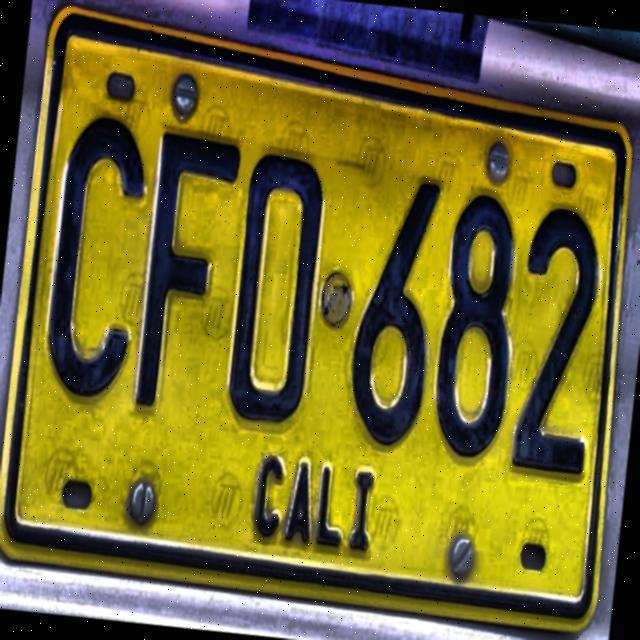2: (505, 200, 610, 483)
6: (340, 162, 456, 451)
8: (425, 178, 533, 468)
C: (35, 104, 155, 406)
F: (126, 118, 245, 423)
O: (218, 136, 338, 450)
